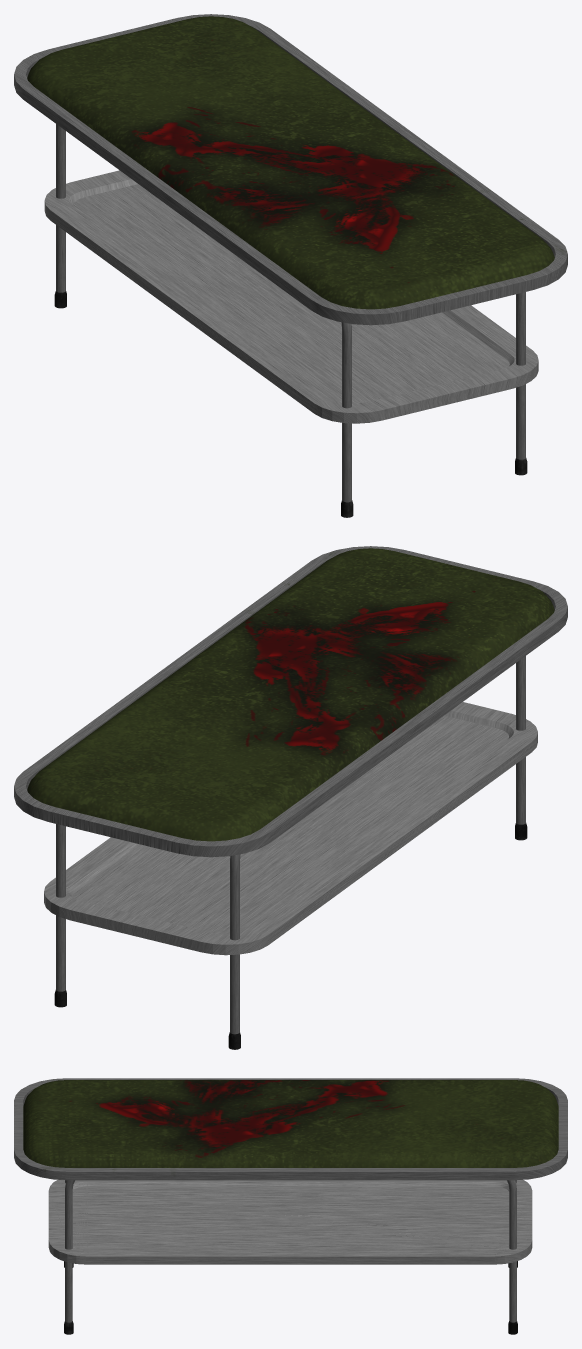
Rendered from Horror_Final_SurgicalTable.fbx.
3 renders of one model, top to bottom at view 1: azimuth 30°, elevation 25°; view 2: azimuth 150°, elevation 25°; view 3: azimuth 270°, elevation 25°, orthographic. The views are drawn at different scales.
Parts seen in each view (by area): view 1: polySurface269; view 2: polySurface269; view 3: polySurface269.
Boxes of the visible parts, box(x1,y1,x2,y2) form: polySurface269: box(14, 14, 567, 517); polySurface269: box(14, 546, 567, 1049); polySurface269: box(14, 1078, 567, 1334).
Bounding box in the file's own units: 120 × 109 × 300.
3 materials, 3 textured.
